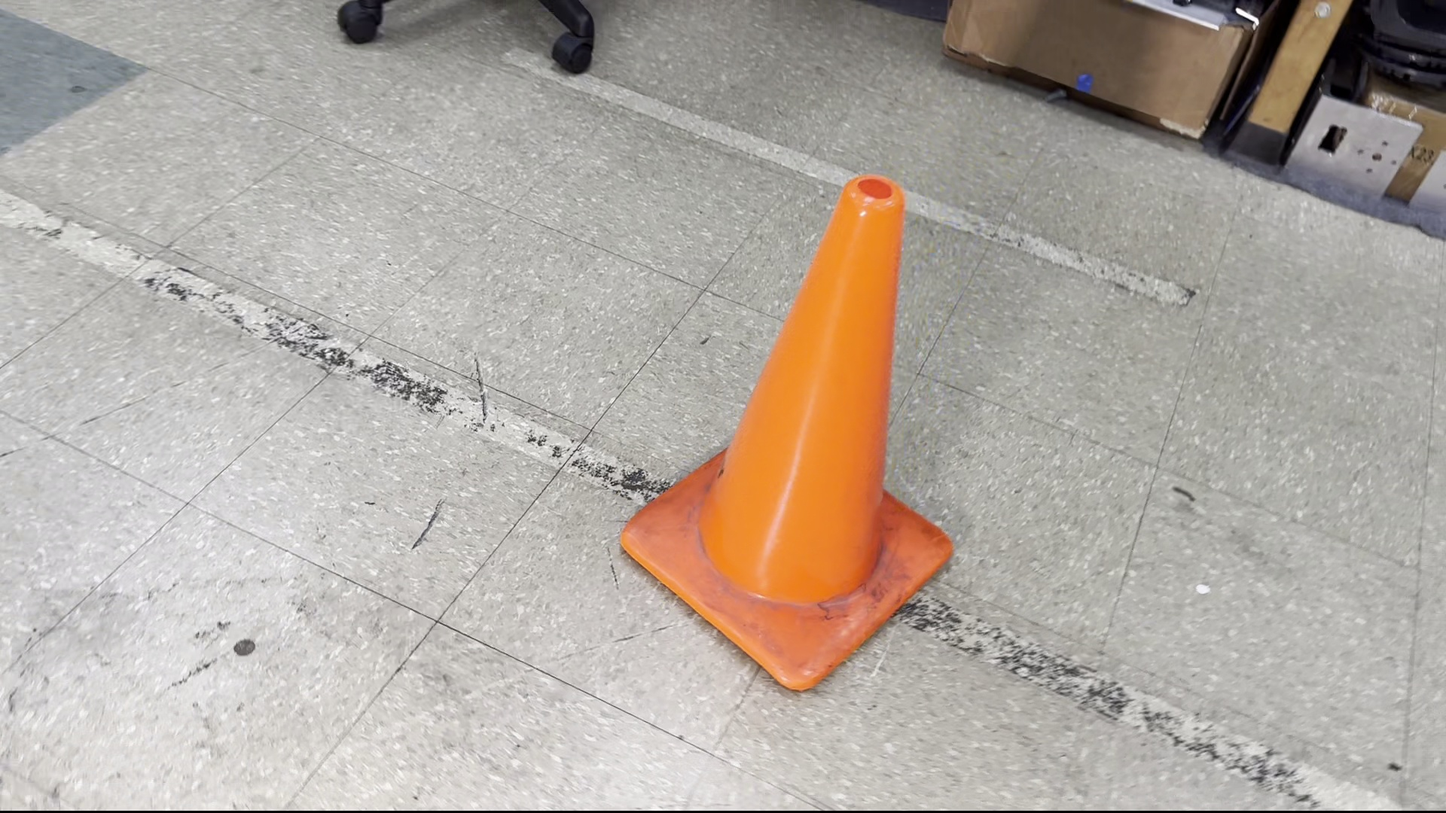traffic_cone: (619, 173, 954, 693)
